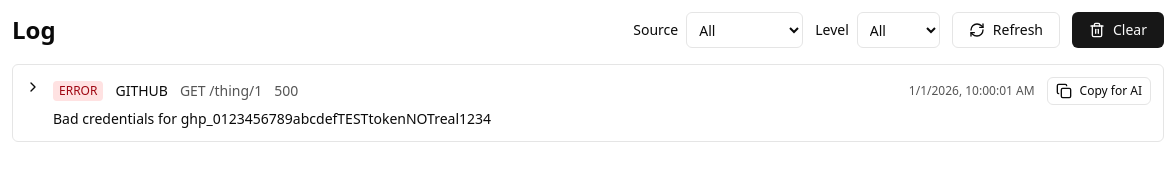
Log page › "Copy for AI" copies a readable block with all context and masks tokens again
expect the list item with test id "log-entry" is shown: met, box [12,64,1164,142]
Click the button "Copy for AI": (1099, 91) [1047,77,1151,105]
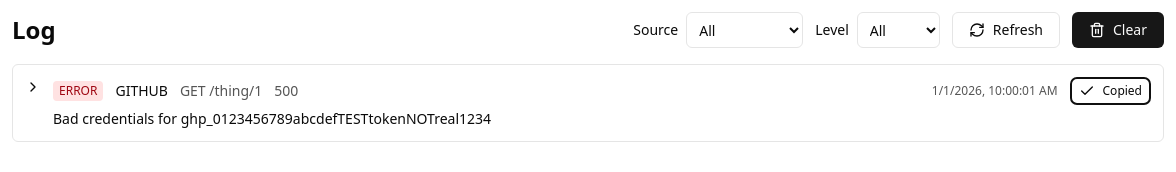
expect the button "Copied" is shown: met, box [1070,77,1151,105]
